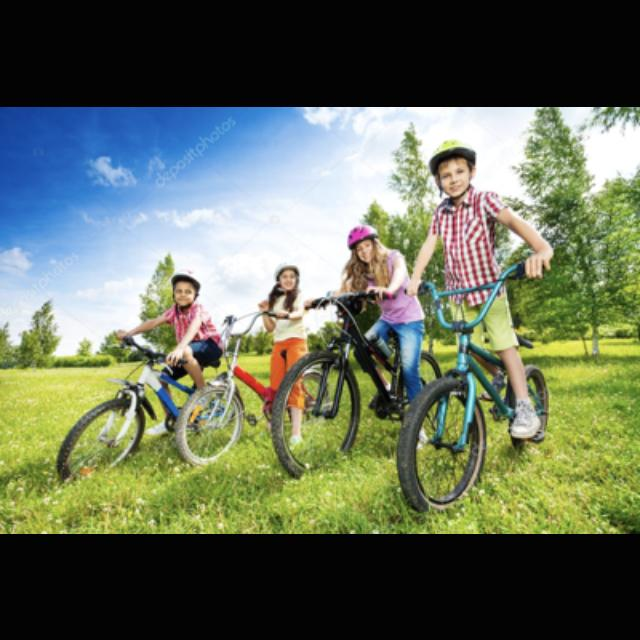With Helmet: (424, 138, 480, 198), (342, 224, 384, 264), (165, 268, 205, 308), (268, 260, 304, 292)
